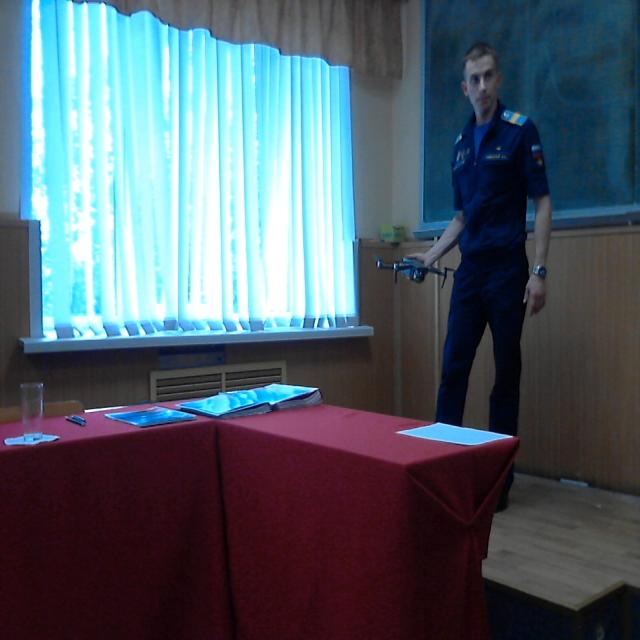drone: (363, 237, 461, 303)
